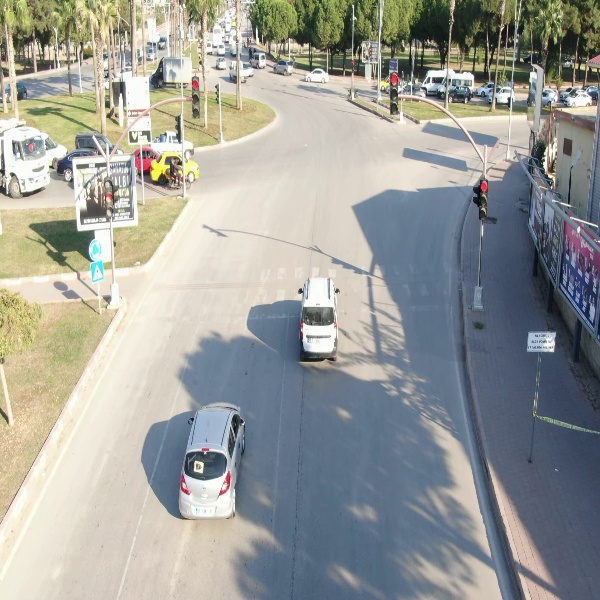car: (174, 399, 249, 522), (297, 274, 341, 365), (486, 86, 517, 108), (445, 84, 475, 105), (563, 89, 594, 108), (304, 68, 331, 84), (272, 59, 296, 76), (249, 51, 267, 70), (213, 56, 228, 72)
